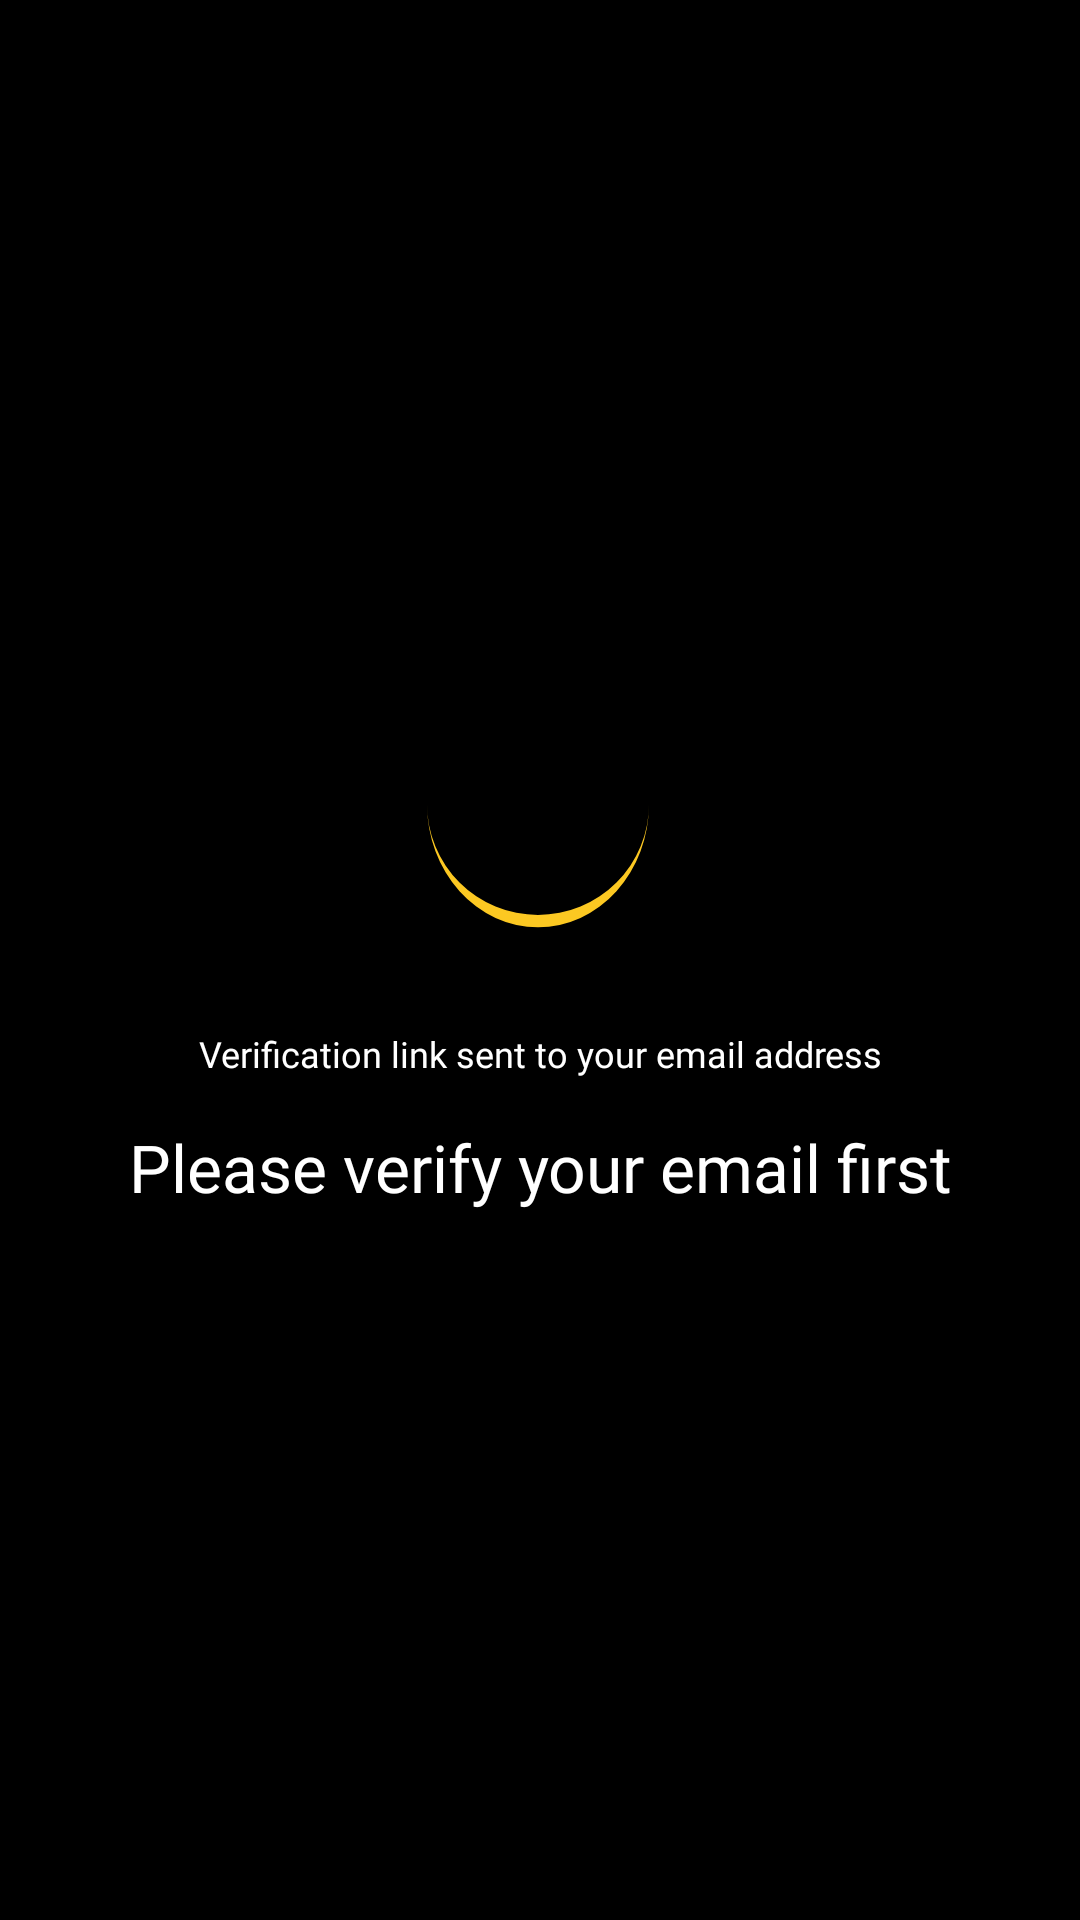

Screen size 1080px×1920px. Icon name, then its center in pixels as (x=x, y=y):
loader: (x=538, y=871)
